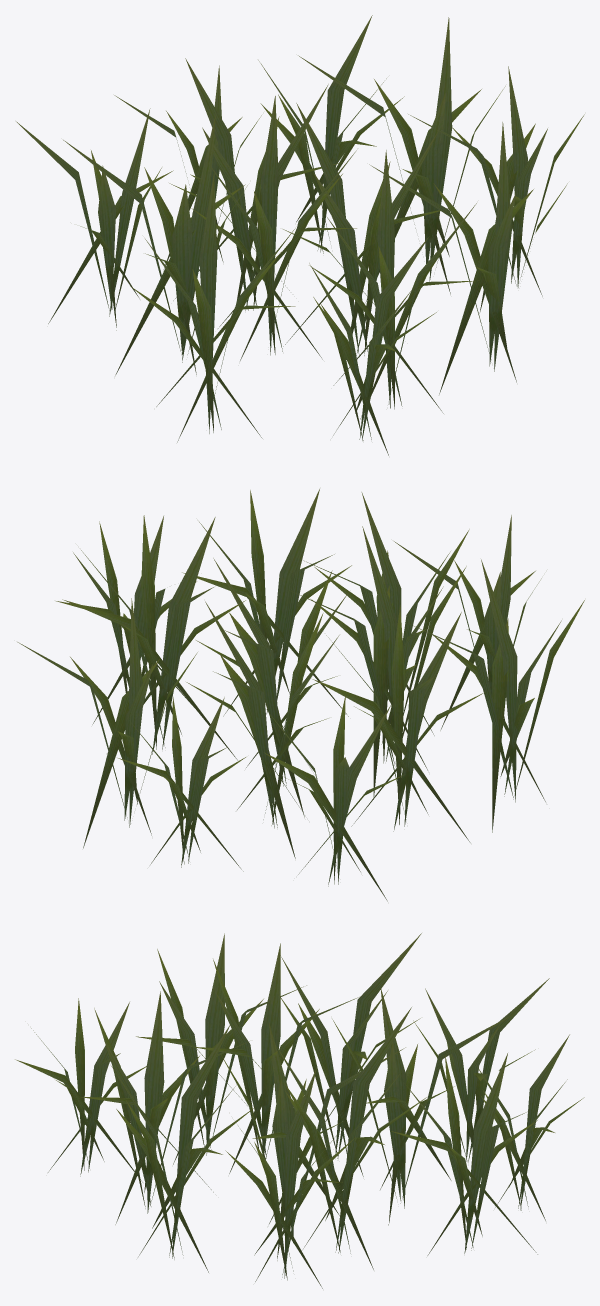
Rendered from Grass2.fbx.
3 renders of one model, top to bottom at view 1: azimuth 30°, elevation 25°; view 2: azimuth 150°, elevation 25°; view 3: azimuth 270°, elevation 25°, orthographic. The views are drawn at different scales.
Parts seen in each view (by area): view 1: SM_d_114_Grass_01a.001; view 2: SM_d_114_Grass_01a.001; view 3: SM_d_114_Grass_01a.001.
Boxes of the visible parts, left/top/right/bottom form: SM_d_114_Grass_01a.001: left=16, top=15, right=584, bottom=455; SM_d_114_Grass_01a.001: left=17, top=489, right=584, bottom=901; SM_d_114_Grass_01a.001: left=15, top=933, right=584, bottom=1288.
Size of the model in its own units: 0.3783 by 0.2047 by 0.4397.
